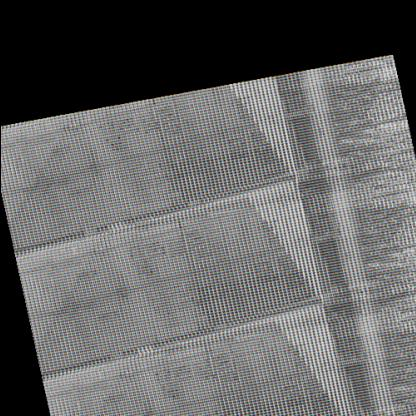Damage: (290, 84, 382, 200)
